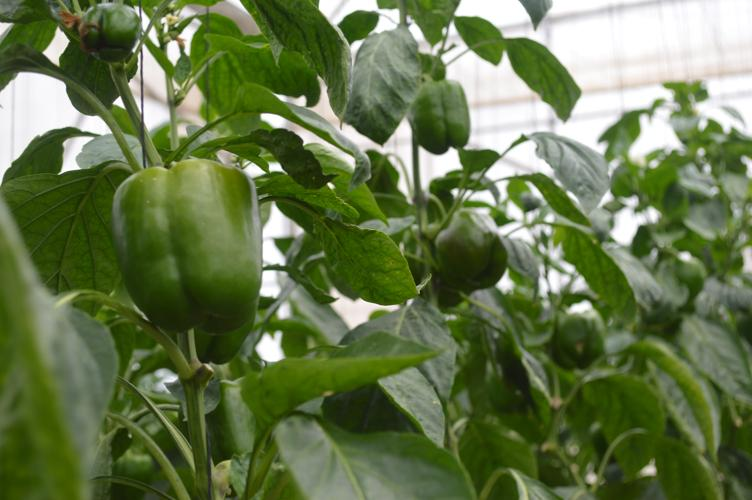BellPepper: (100, 159, 270, 340), (418, 206, 515, 297), (403, 77, 477, 154), (542, 303, 611, 383), (73, 2, 146, 64)
